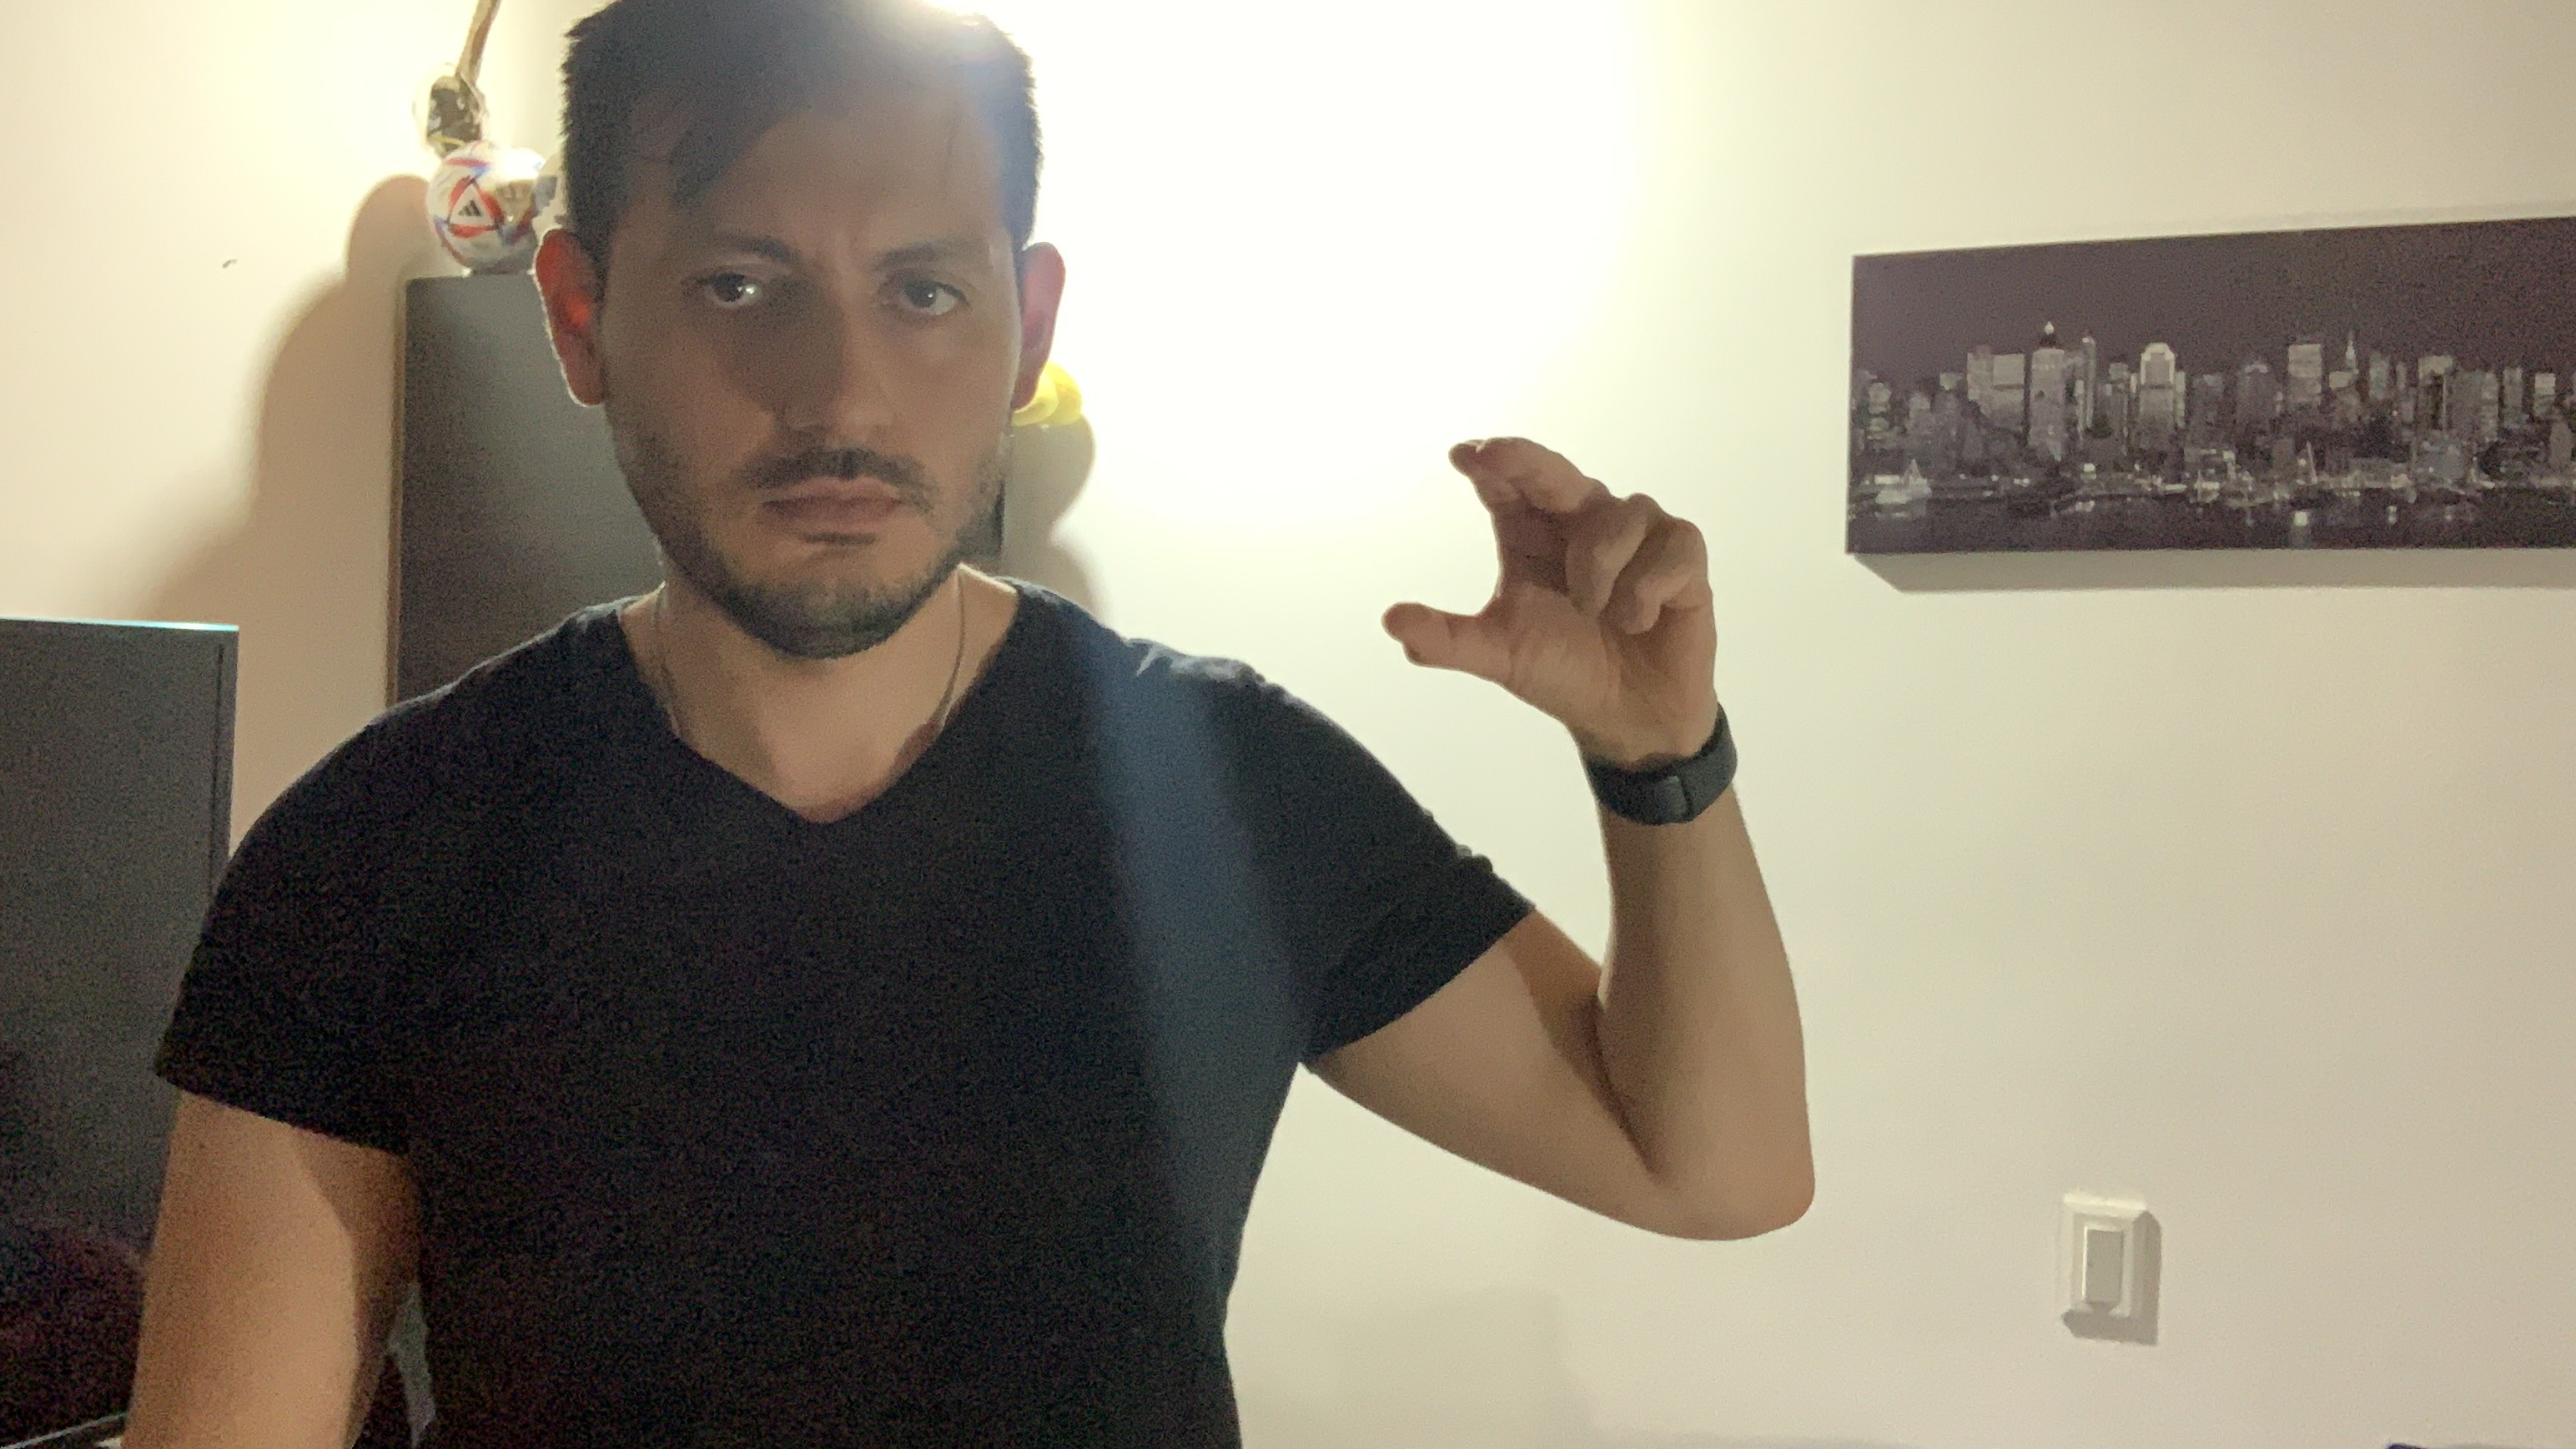No: (1380, 425, 1757, 757)
